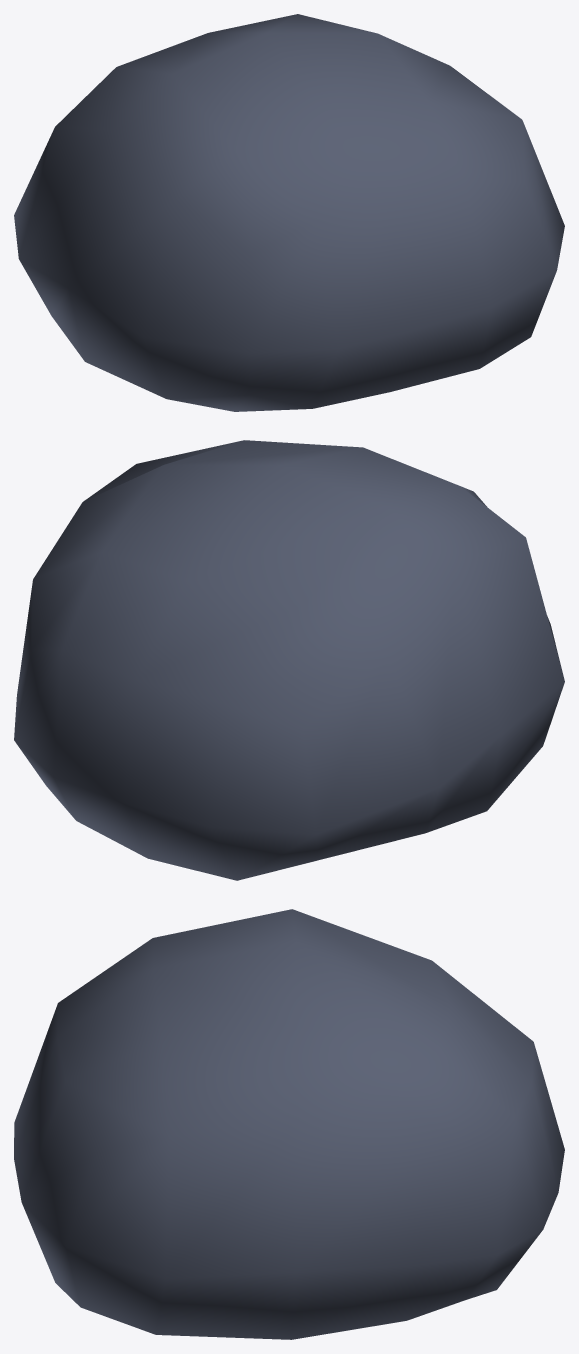
The model's file is Stone01.FBX.
3 renders of one model, top to bottom at view 1: azimuth 30°, elevation 25°; view 2: azimuth 150°, elevation 25°; view 3: azimuth 270°, elevation 25°, orthographic. The views are drawn at different scales.
Visible parts, largest first — view 1: StoneSMall; view 2: StoneSMall; view 3: StoneSMall.
Part boxes in pixels (x1,y1,x2,y2): StoneSMall: (14, 14, 564, 411); StoneSMall: (14, 440, 564, 880); StoneSMall: (14, 909, 564, 1339).
Size of the model in its own units: 44.55 by 29.13 by 46.12.
